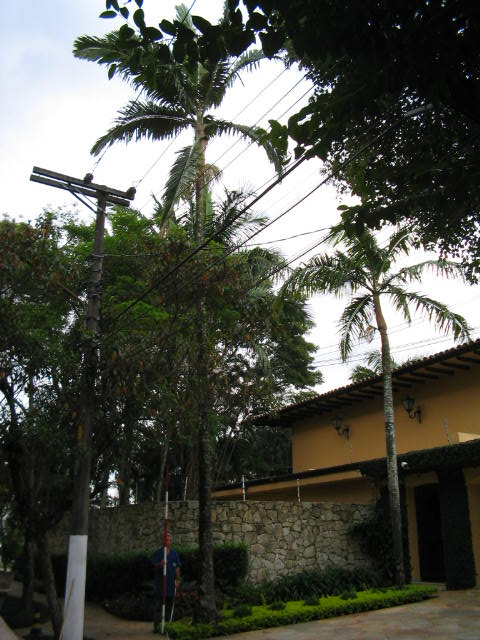stick: (153, 462, 177, 635)
